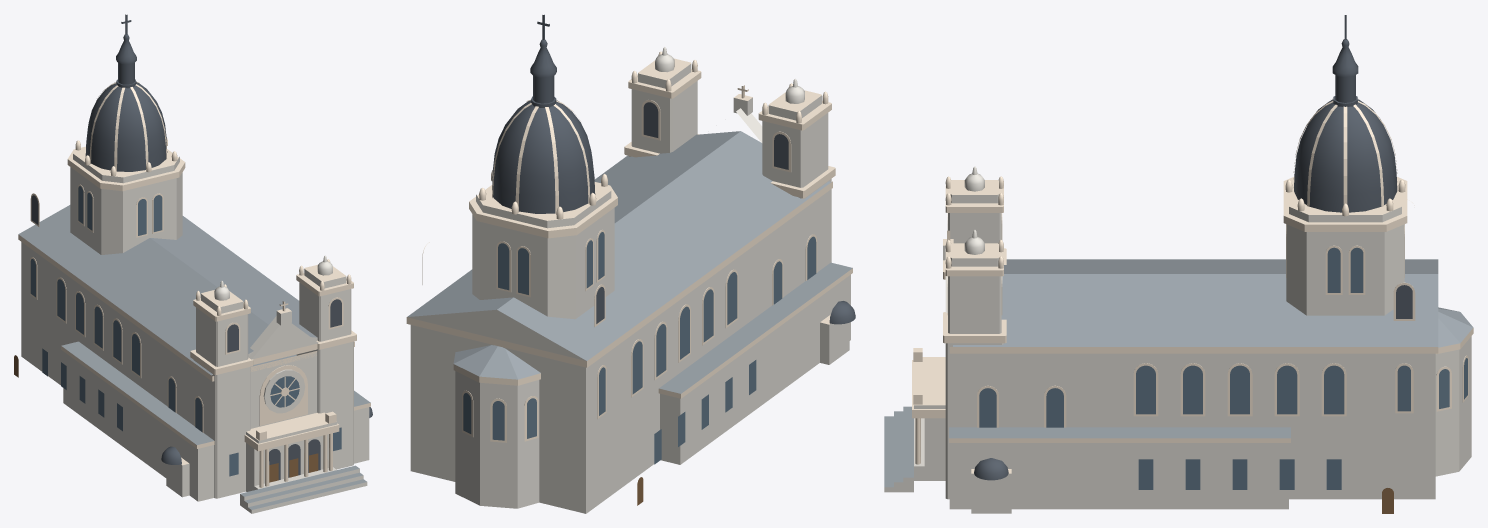
The model's file is msp-basilica-of-saint-mary.glb.
The picture shows the model from 3 angles, left to right: view 1: azimuth 30°, elevation 25°; view 2: azimuth 150°, elevation 25°; view 3: azimuth 270°, elevation 25°; orthographic projection. The views are drawn at different scales.
Parts seen in each view (by area): view 1: msp-basilica-of-saint-mary; view 2: msp-basilica-of-saint-mary; view 3: msp-basilica-of-saint-mary.
Part boxes in pixels (box(x1,y1,x2,y2)): msp-basilica-of-saint-mary: box(14, 14, 372, 513); msp-basilica-of-saint-mary: box(406, 14, 855, 513); msp-basilica-of-saint-mary: box(884, 15, 1473, 513).
Size of the model in its own units: 45 by 72.6 by 87.63.
